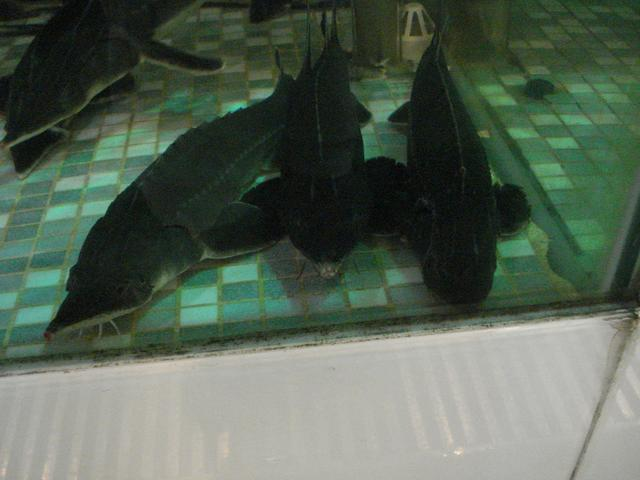fish: (48, 91, 316, 350), (403, 37, 523, 334)
